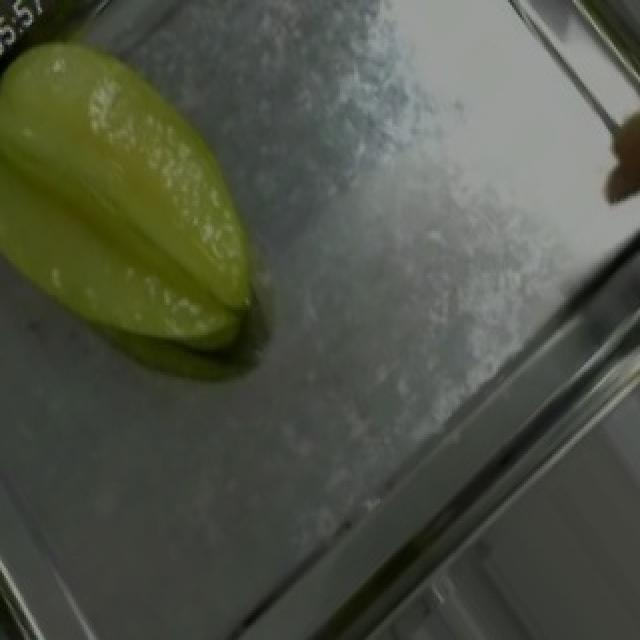fruit: (0, 7, 330, 392)
